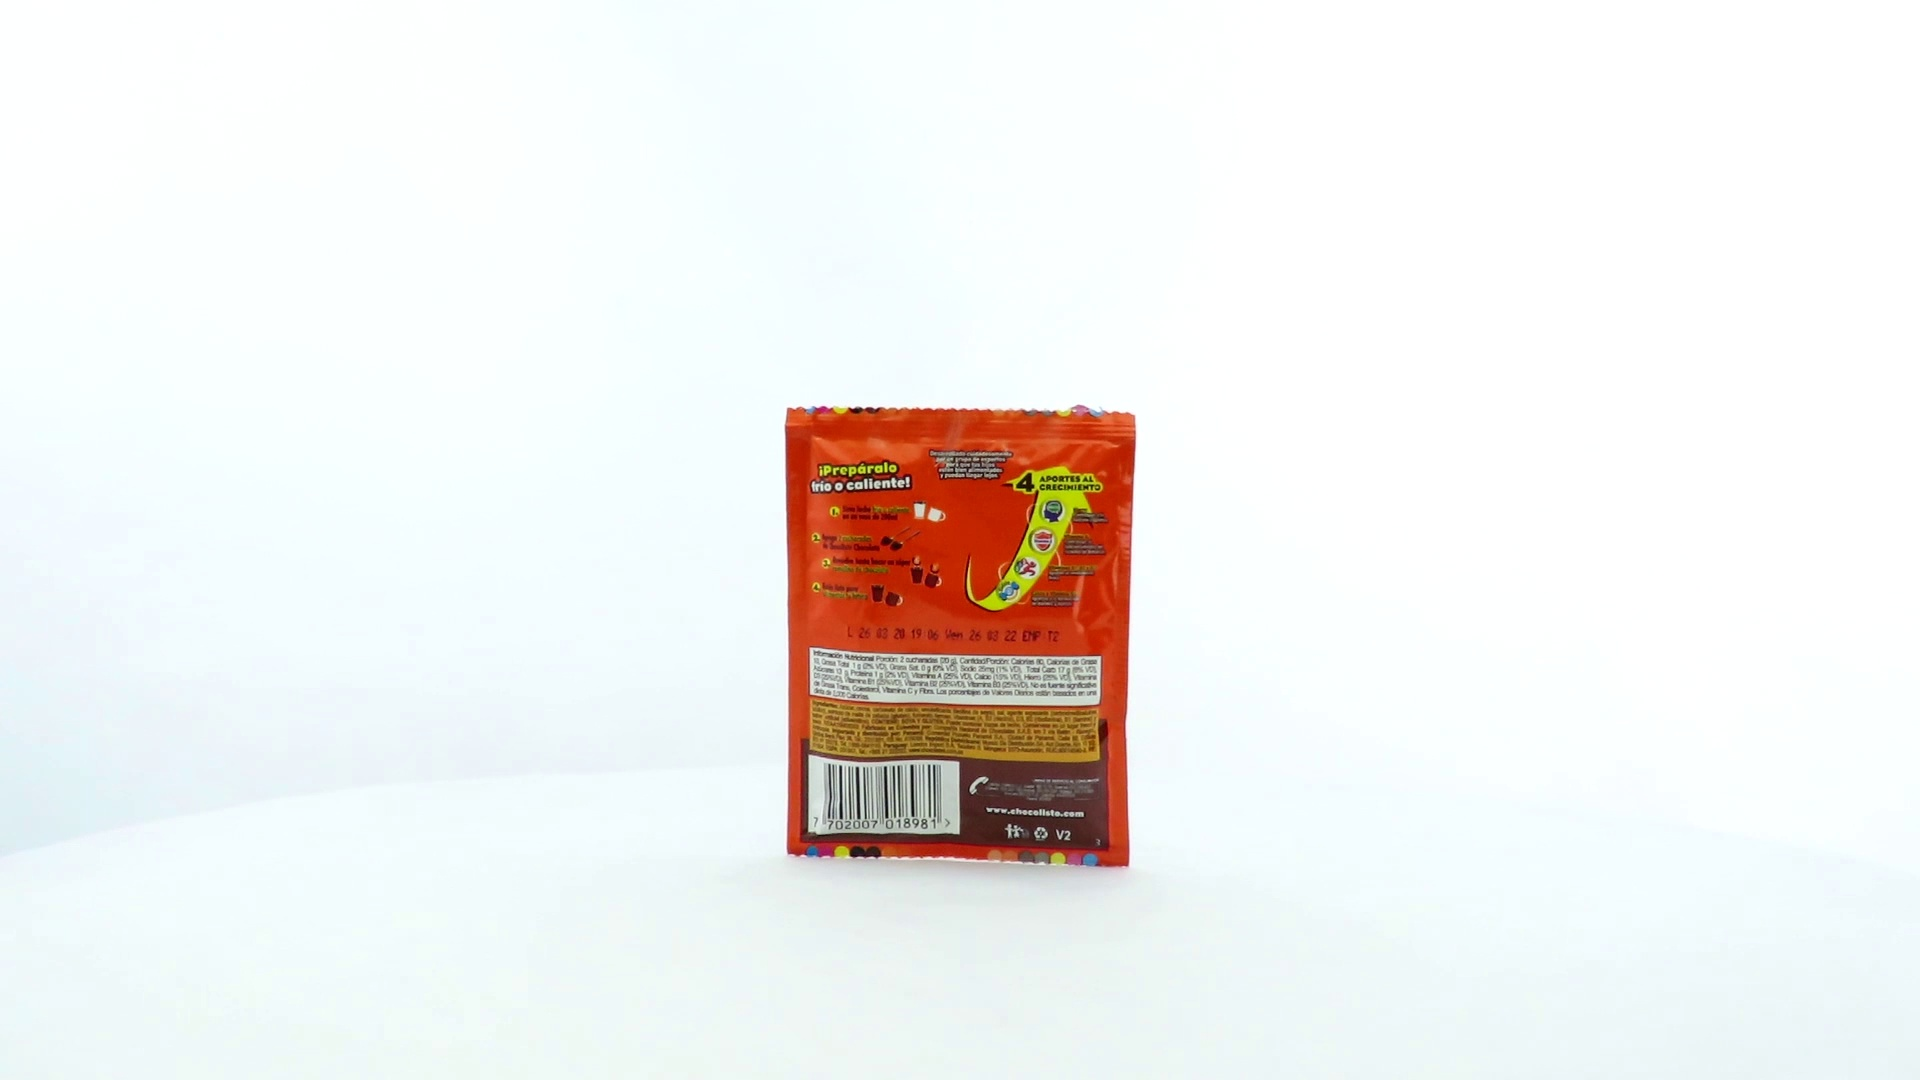COL0170103SOB02000: (779, 400, 1142, 873)
